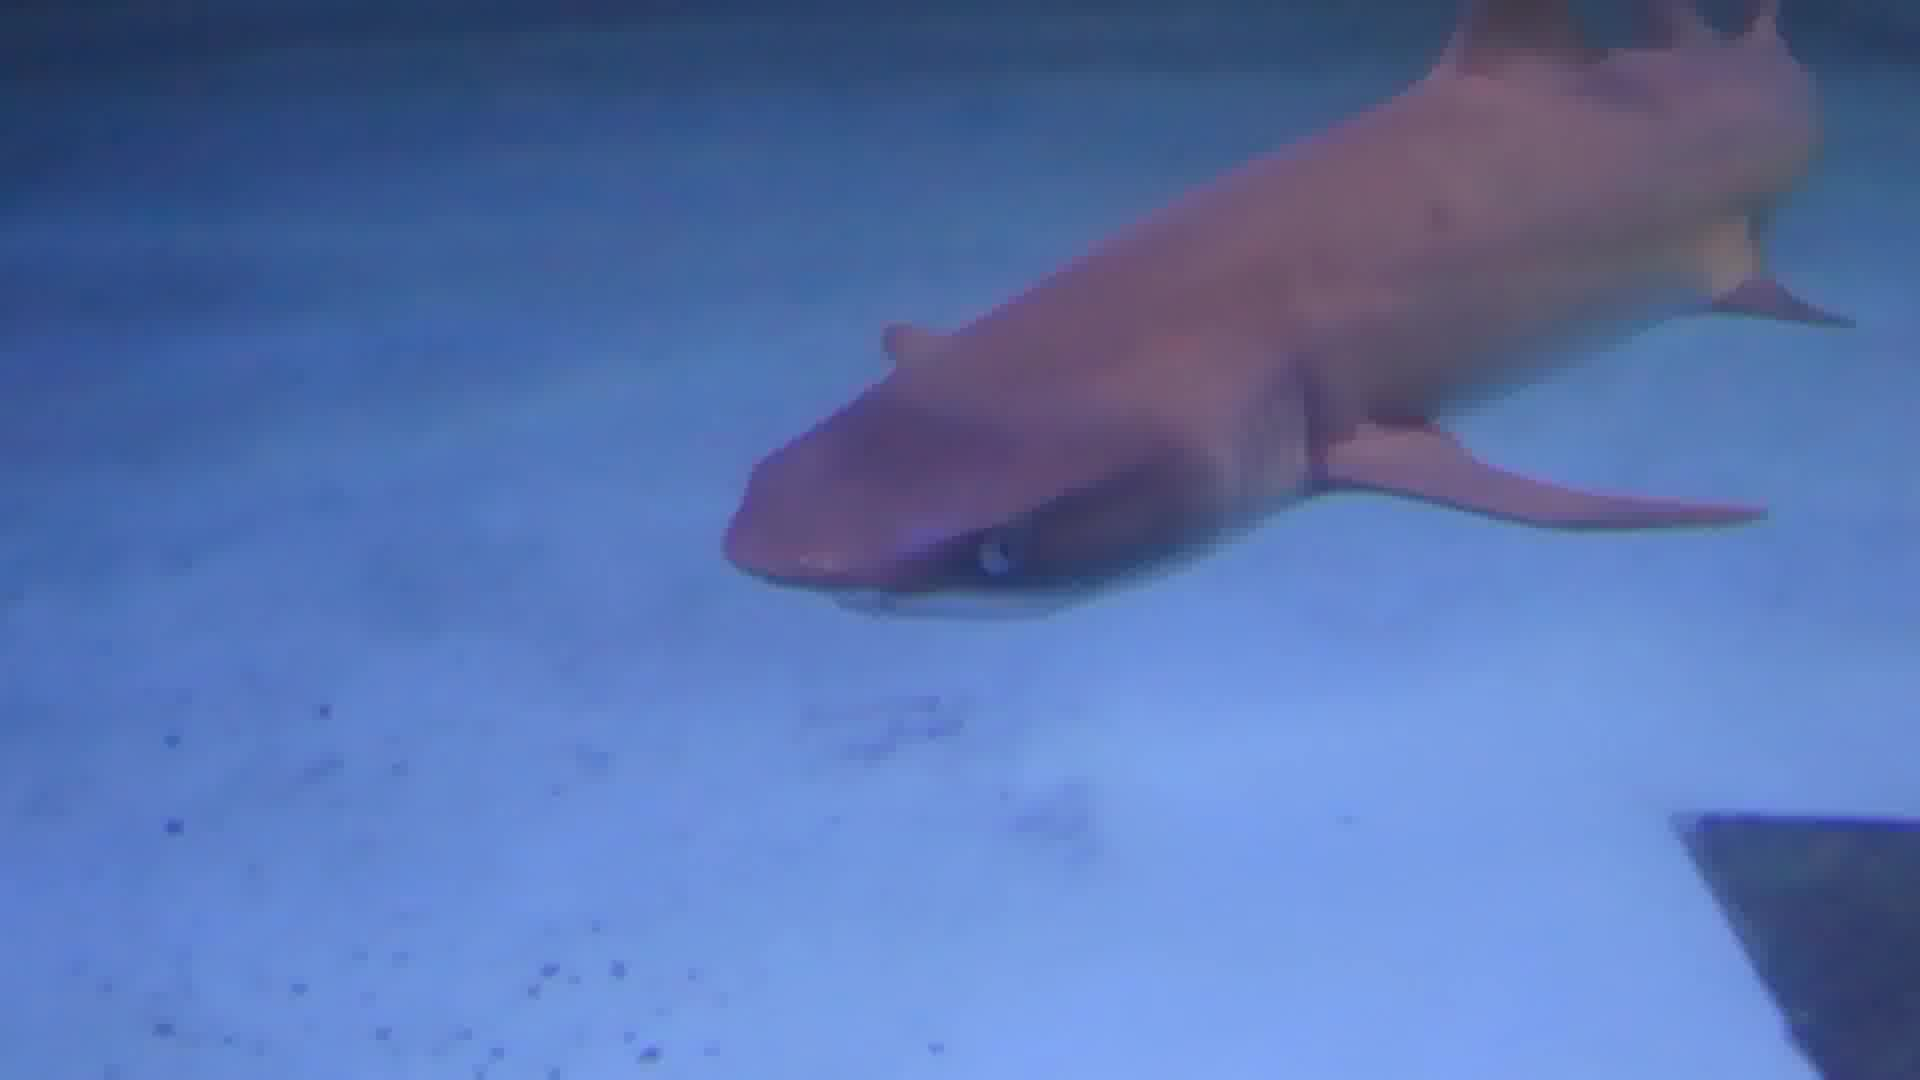Triaenodon obesus: (711, 1, 1855, 655)
